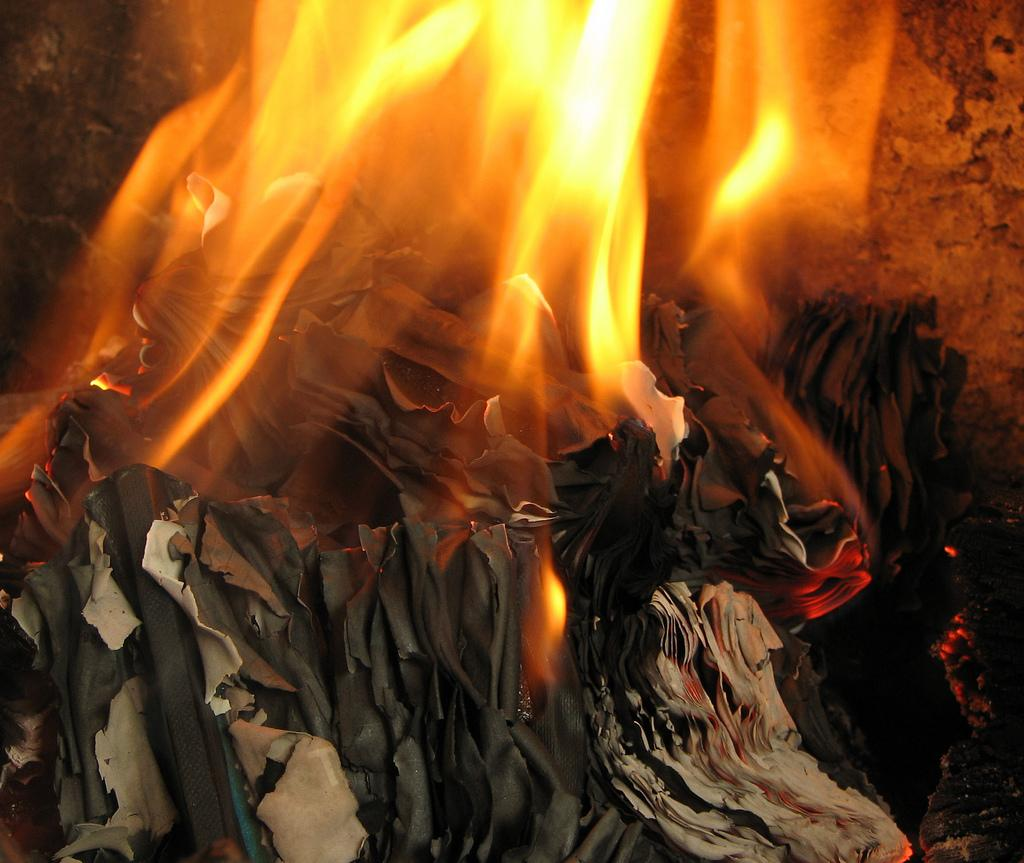fire: (308, 2, 618, 140)
